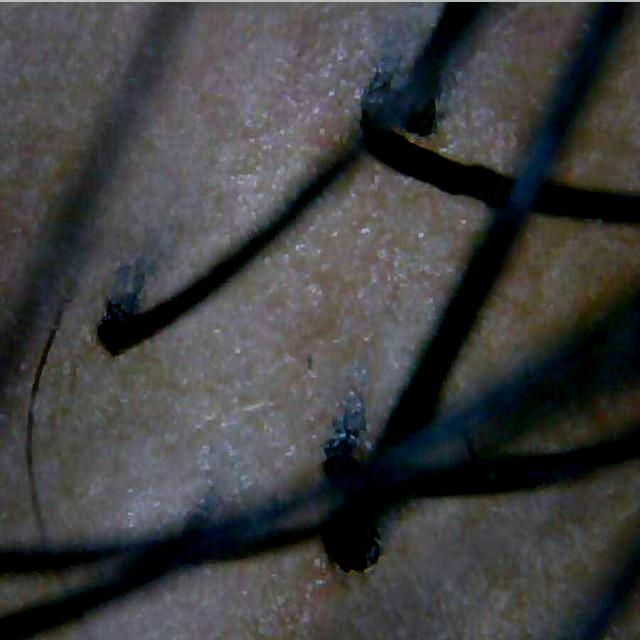o: (256, 182, 457, 437), (234, 66, 360, 216), (261, 542, 354, 640)
